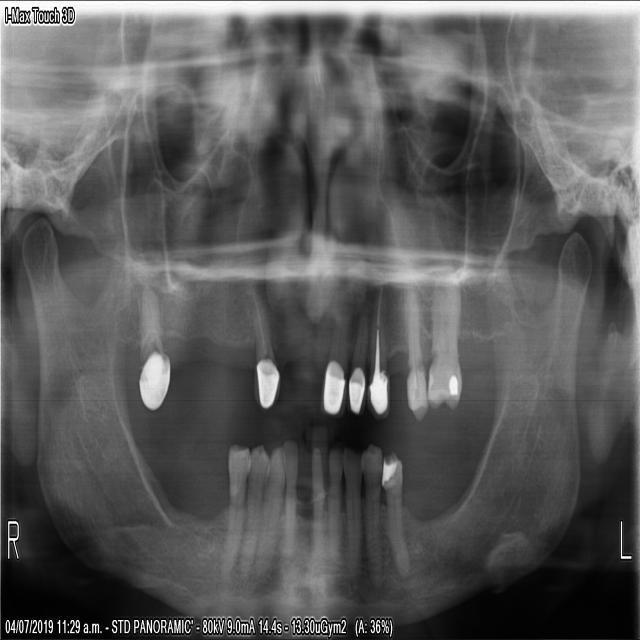LCD: (341, 444, 363, 579)
LCU: (367, 298, 390, 419)
LID: (307, 439, 329, 556), (326, 441, 345, 560)
LIU: (318, 302, 353, 419), (345, 298, 370, 422)
LMU: (426, 287, 463, 412)
LPMD: (381, 446, 410, 577), (360, 439, 385, 585)
LPMU: (402, 295, 428, 429)
RCD: (236, 434, 271, 585)
RID: (254, 442, 285, 580), (279, 432, 300, 554)
RIU: (244, 284, 282, 408)
RMU: (135, 282, 172, 411)
RPMD: (216, 442, 251, 569)
